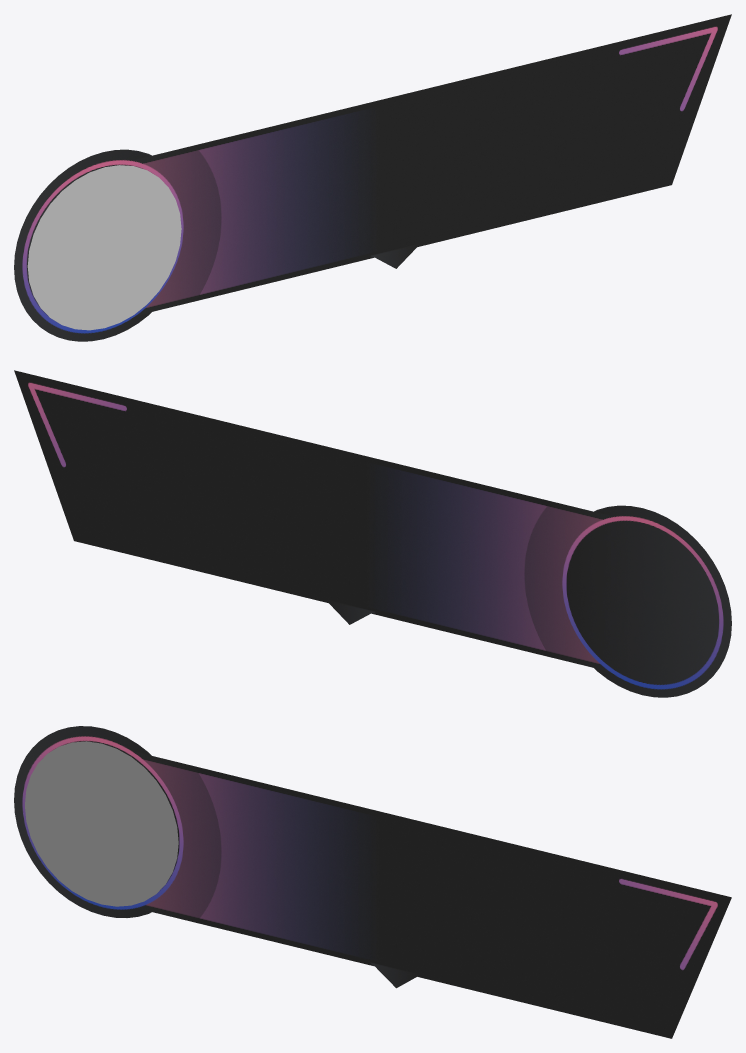
The model's file is nameplate.glb.
3 renders of one model, top to bottom at view 1: azimuth 30°, elevation 25°; view 2: azimuth 150°, elevation 25°; view 3: azimuth 330°, elevation 25°, orthographic.
Parts seen in each view (by area): view 1: Nameplate, User; view 2: Nameplate; view 3: Nameplate, User.
Boxes of the visible parts, <box> form: Nameplate: <box>14,14,731,341</box>; User: <box>27,165,181,330</box>; Nameplate: <box>14,370,731,697</box>; Nameplate: <box>14,726,731,1038</box>; User: <box>25,741,178,906</box>.
Bounding box in the file's own units: 0.289 × 0.0725 × 0.001.
Materials: 2 (1 with a texture image).
